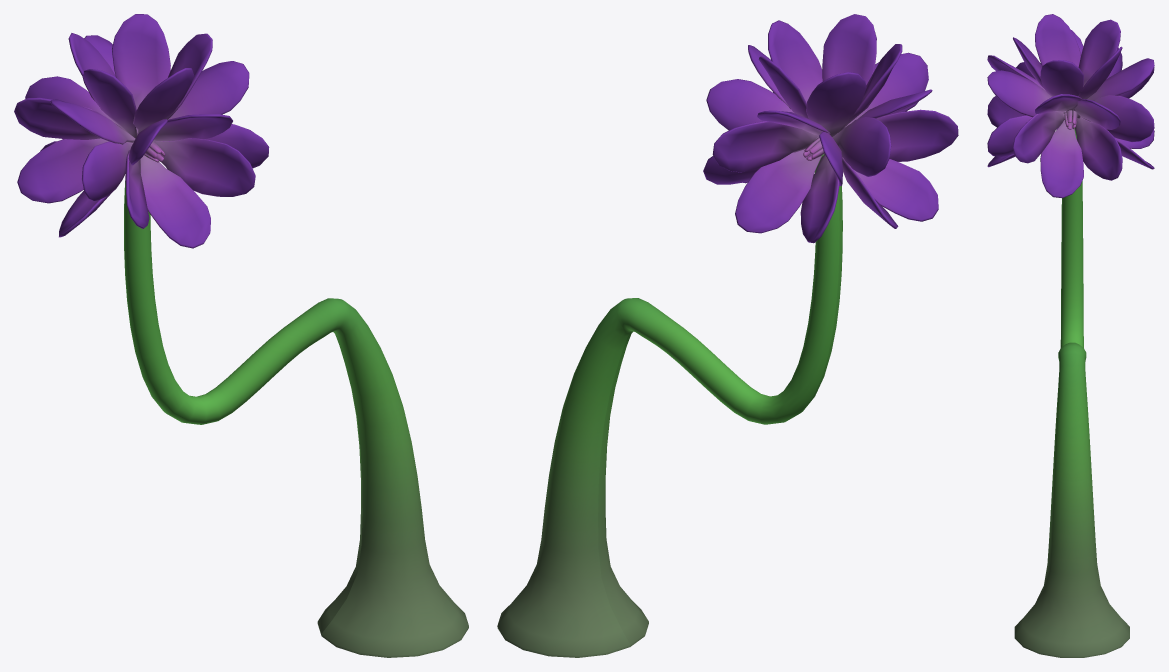
Rendered from Gravity_Flower.fbx.
3 renders of one model, left to right at view 1: azimuth 30°, elevation 25°; view 2: azimuth 150°, elevation 25°; view 3: azimuth 270°, elevation 25°, orthographic. The views are drawn at different scales.
Parts seen in each view (by area): view 1: Circle.019, Circle.006; view 2: Circle.019, Circle.006; view 3: Circle.019, Circle.006.
Part boxes in pixels (box(x1,y1,x2,y2)): Circle.019: box(14, 14, 269, 248); Circle.006: box(124, 181, 468, 657); Circle.019: box(703, 14, 958, 243); Circle.006: box(497, 154, 842, 657); Circle.019: box(987, 14, 1154, 198); Circle.006: box(1014, 128, 1129, 657).
Bounding box in the file's own units: 215 × 321 × 97.29.
1 material, 1 textured.
